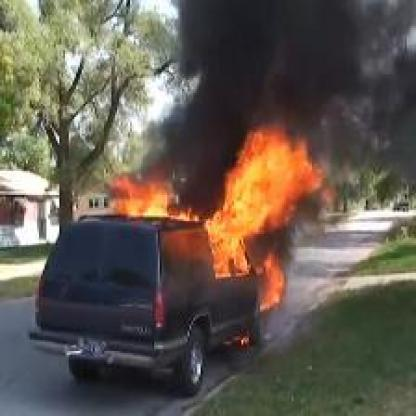fire: (116, 115, 296, 302)
smoke: (156, 0, 412, 206)
